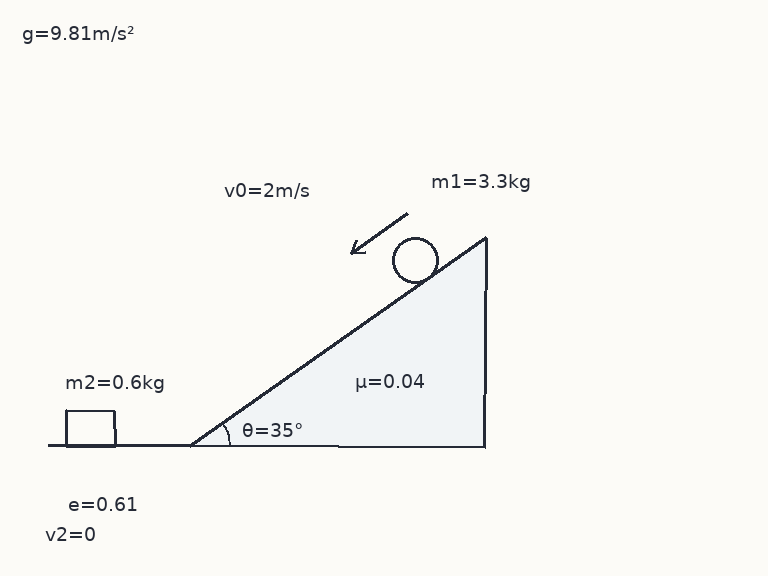ball: (390, 235, 440, 285)
block: (64, 408, 116, 448)
ramp: (188, 237, 488, 448)
